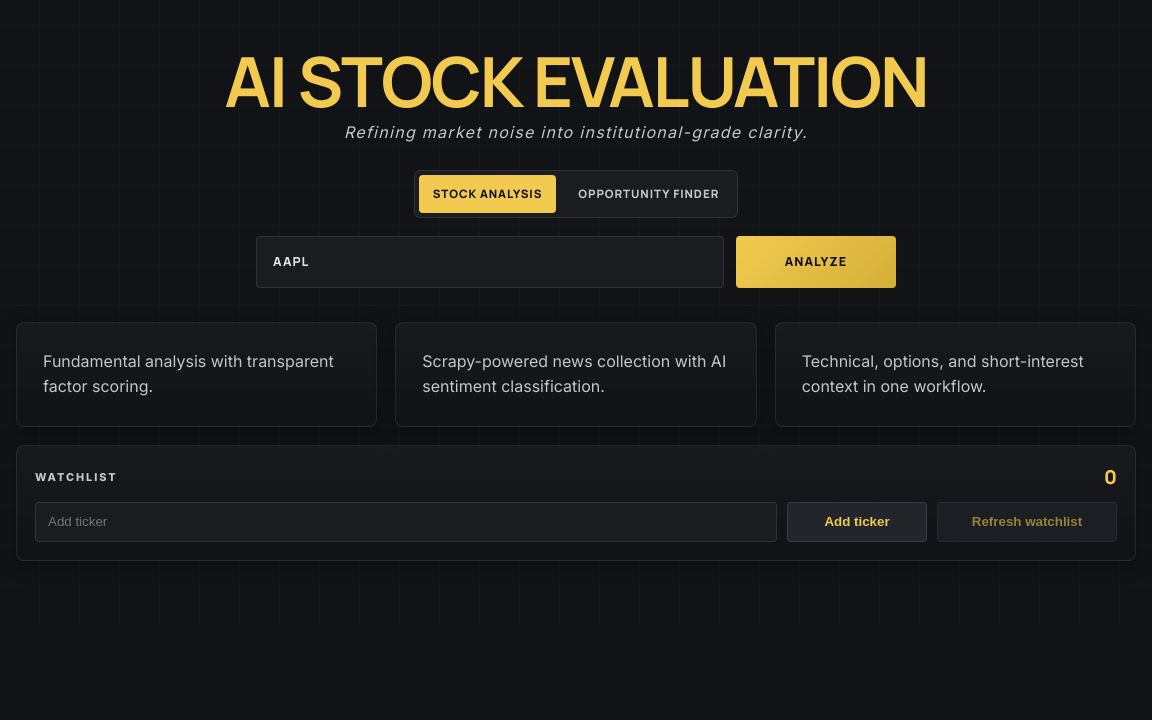
Test case: App › renders an error state when the backend rejects analysis
This screenshot has width=1152, height=720.
What coordinates should you click on to do the following:
click the button "Analyze"
I would click on:
 (816, 262)
Its box is [736,236,896,288].
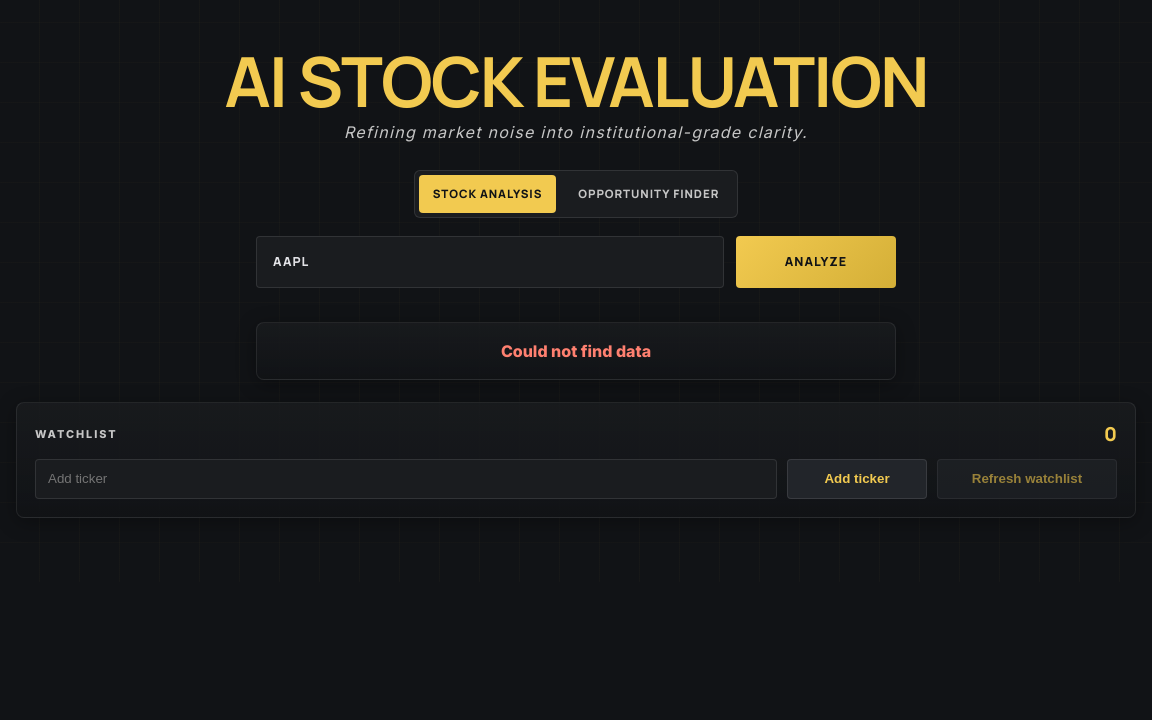
Expected: the text "Could not find data" is shown, [256,322,896,380]
